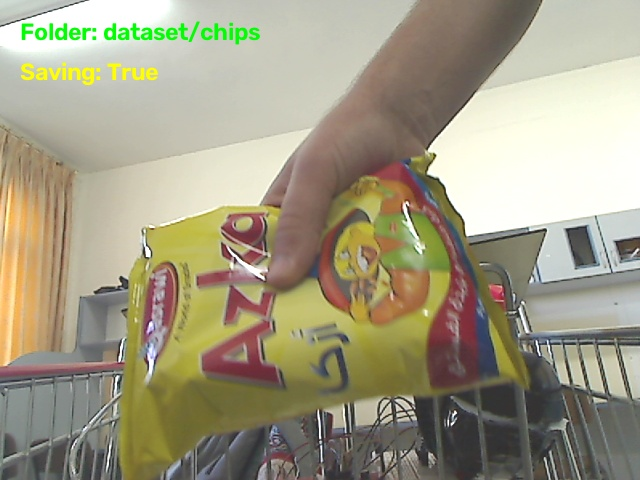chips: (120, 155, 527, 479)
